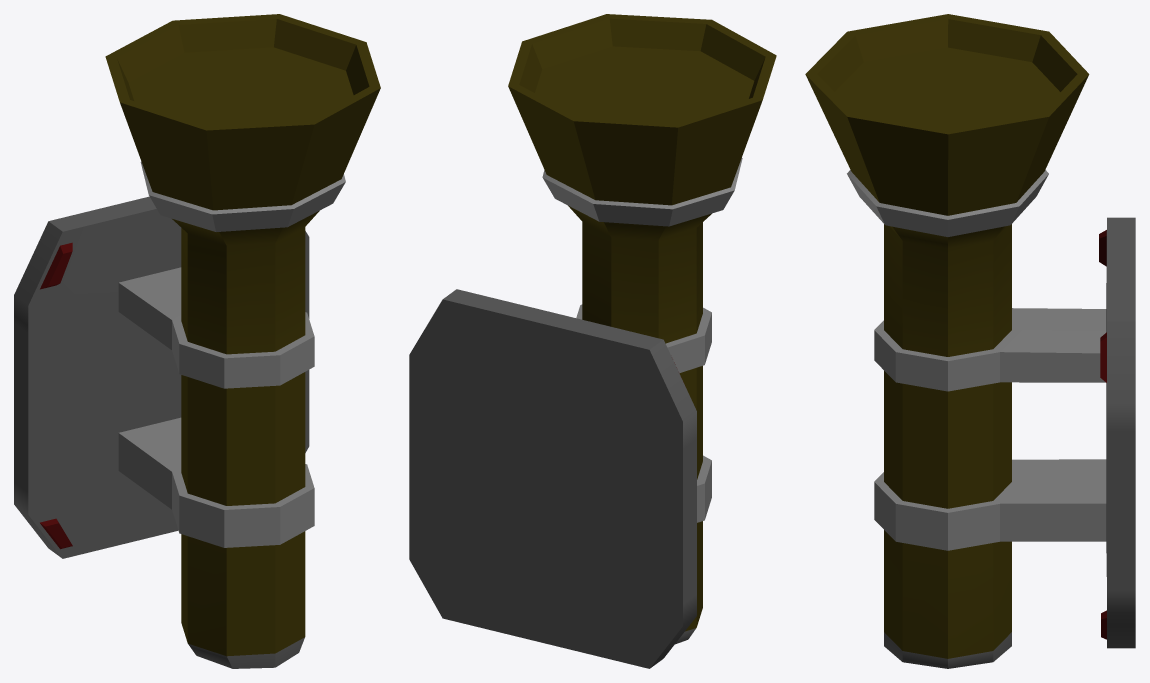
File: antorchita.fbx
The picture shows the model from 3 angles, left to right: view 1: azimuth 30°, elevation 25°; view 2: azimuth 150°, elevation 25°; view 3: azimuth 270°, elevation 25°; orthographic projection. The views are drawn at different scales.
Parts seen in each view (by area): view 1: pCylinder2; view 2: pCylinder2; view 3: pCylinder2.
Part boxes in pixels (box(x1,y1,x2,y2)): pCylinder2: box(14, 14, 380, 668); pCylinder2: box(409, 14, 776, 668); pCylinder2: box(805, 14, 1135, 668).
Bounding box in the file's own units: 212 × 413 × 216.
